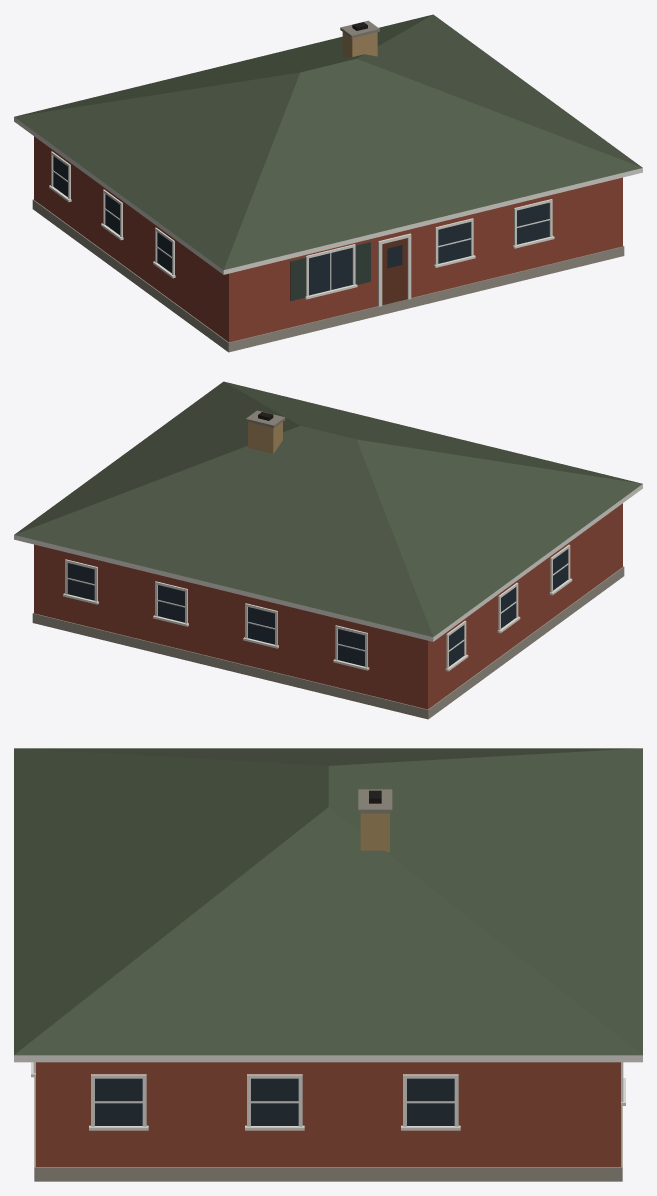
The model's file is ranch-house-0001.glb.
3 renders of one model, top to bottom at view 1: azimuth 30°, elevation 25°; view 2: azimuth 150°, elevation 25°; view 3: azimuth 270°, elevation 25°, orthographic. The views are drawn at different scales.
Parts seen in each view (by area): view 1: house_roof, house_wall, house_trim, house_foundation, house_glass, house_door, house_shutter, house_chimney; view 2: house_roof, house_wall, house_trim, house_foundation, house_glass, house_chimney; view 3: house_roof, house_wall, house_foundation, house_trim, house_glass, house_chimney, house_chimneycap.
Boxes of the visible parts, box(x1,y1,x2,y2) form: house_roof: box(14, 14, 642, 269); house_wall: box(34, 136, 622, 342); house_trim: box(14, 117, 642, 306); house_foundation: box(32, 199, 624, 352); house_glass: box(53, 156, 549, 295); house_door: box(382, 238, 407, 305); house_shutter: box(290, 242, 370, 300); house_chimney: box(342, 32, 377, 56); house_roof: box(14, 381, 642, 636); house_wall: box(34, 503, 622, 709); house_trim: box(14, 484, 642, 671); house_foundation: box(32, 566, 624, 719); house_glass: box(67, 549, 567, 666); house_chimney: box(248, 422, 282, 453); house_roof: box(14, 748, 642, 1055); house_wall: box(36, 1062, 620, 1166); house_foundation: box(34, 1077, 622, 1181); house_trim: box(14, 1055, 642, 1130); house_glass: box(95, 1078, 454, 1125); house_chimney: box(360, 813, 389, 852); house_chimneycap: box(358, 789, 392, 813).
Bounding box in the file's own units: 14.9 × 6.27 × 12.9.
